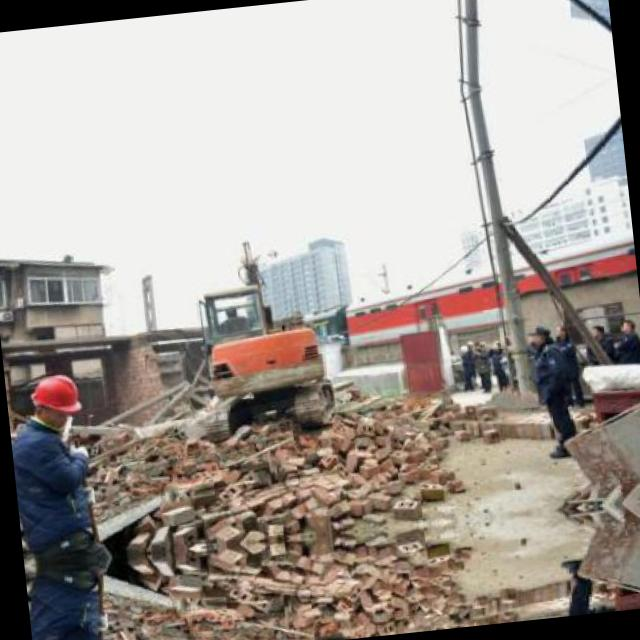helmet: (24, 368, 84, 428)
